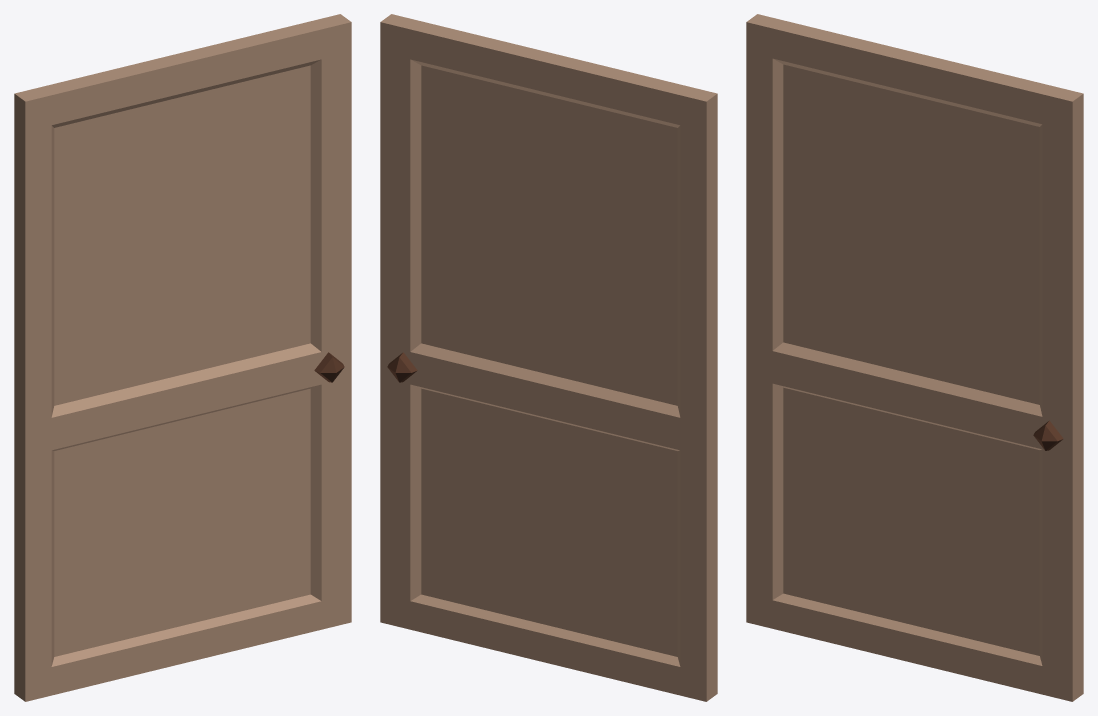
Rendered from Door_2D.fbx.
The picture shows the model from 3 angles, left to right: view 1: azimuth 30°, elevation 25°; view 2: azimuth 150°, elevation 25°; view 3: azimuth 330°, elevation 25°; orthographic projection.
Visible parts, largest first — view 1: polySurface1646; view 2: polySurface1646; view 3: polySurface1646.
Part boxes in pixels (x1,y1,x2,y2): polySurface1646: (14, 14, 351, 701); polySurface1646: (380, 14, 717, 701); polySurface1646: (746, 14, 1083, 701).
Bounding box in the file's own units: 1.7 × 2.99 × 0.243.
1 material, 1 textured.
